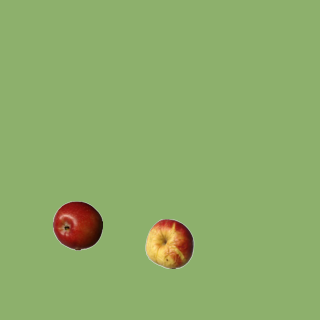Apple Braeburn: (52, 200, 102, 250)
Apple Red Yellow 1: (144, 218, 194, 268)
